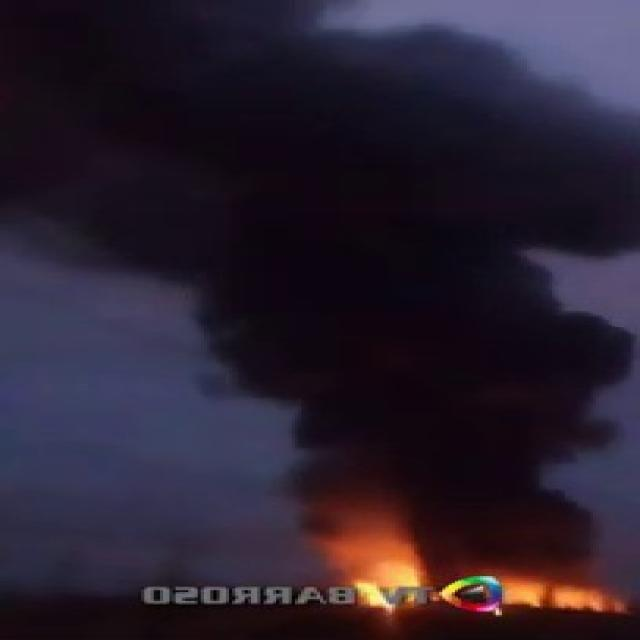Fire: (348, 551, 433, 613)
Smoke: (254, 68, 562, 422)
